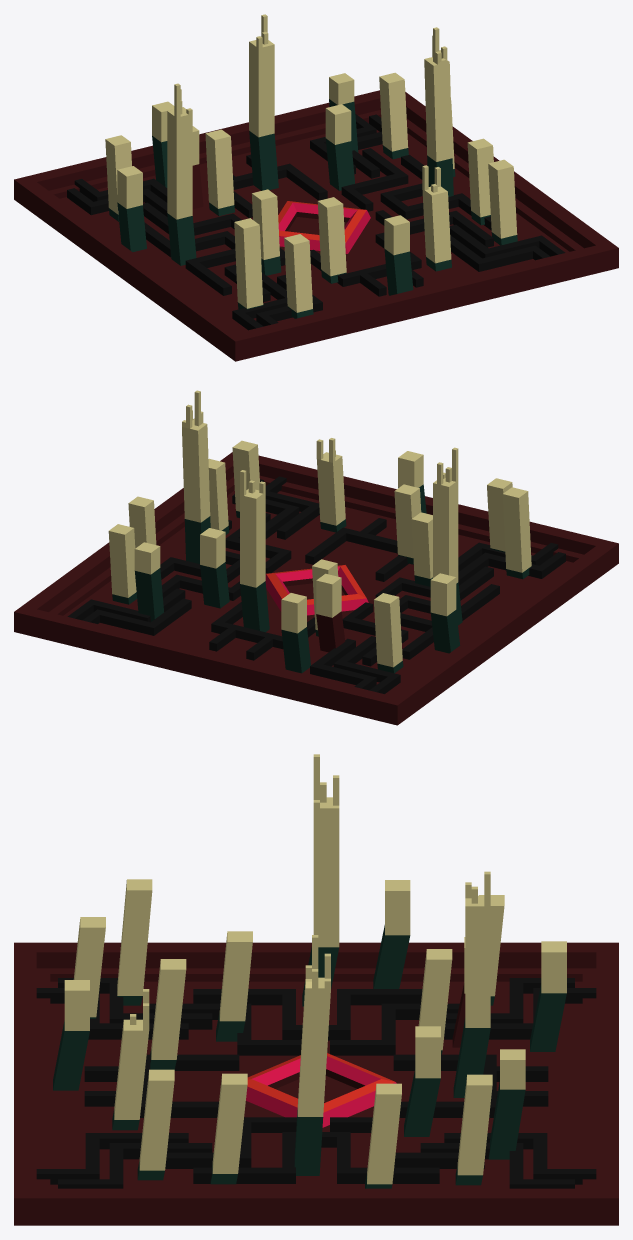
File: tile_deco_2x2.fbx
The picture shows the model from 3 angles, top to bottom: view 1: azimuth 30°, elevation 25°; view 2: azimuth 150°, elevation 25°; view 3: azimuth 270°, elevation 25°; orthographic projection. The views are drawn at different scales.
Visible parts, largest first — view 1: Cube.003, Cube.004; view 2: Cube.003, Cube.004; view 3: Cube.003, Cube.004.
Part boxes in pixels (bbox=[...]): Cube.003: bbox=[14, 14, 618, 361]; Cube.004: bbox=[67, 114, 565, 330]; Cube.003: bbox=[14, 390, 618, 725]; Cube.004: bbox=[67, 476, 565, 693]; Cube.003: bbox=[14, 754, 618, 1225]; Cube.004: bbox=[36, 978, 596, 1188].
Size of the model in its own units: 240 by 114 by 240.
